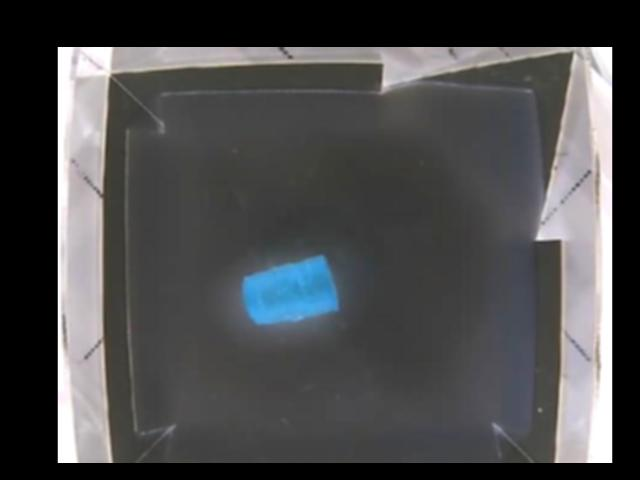Carrot: (240, 255, 338, 325)
